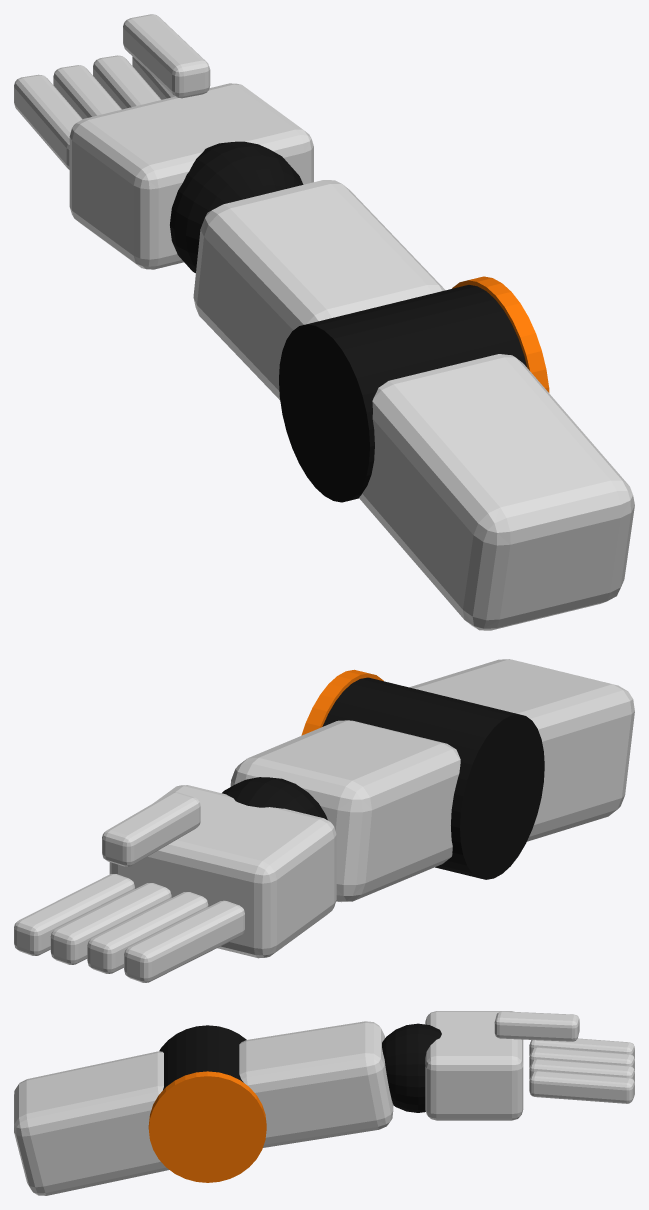
The model's file is left_arm_visual.obj.
3 views of the same model, one above another, from view 1: azimuth 30°, elevation 25°; view 2: azimuth 150°, elevation 25°; view 3: azimuth 270°, elevation 25° (orthographic). The views are drawn at different scales.
Bounding box in the file's own units: 0.0952 × 0.1331 × 0.4426.
